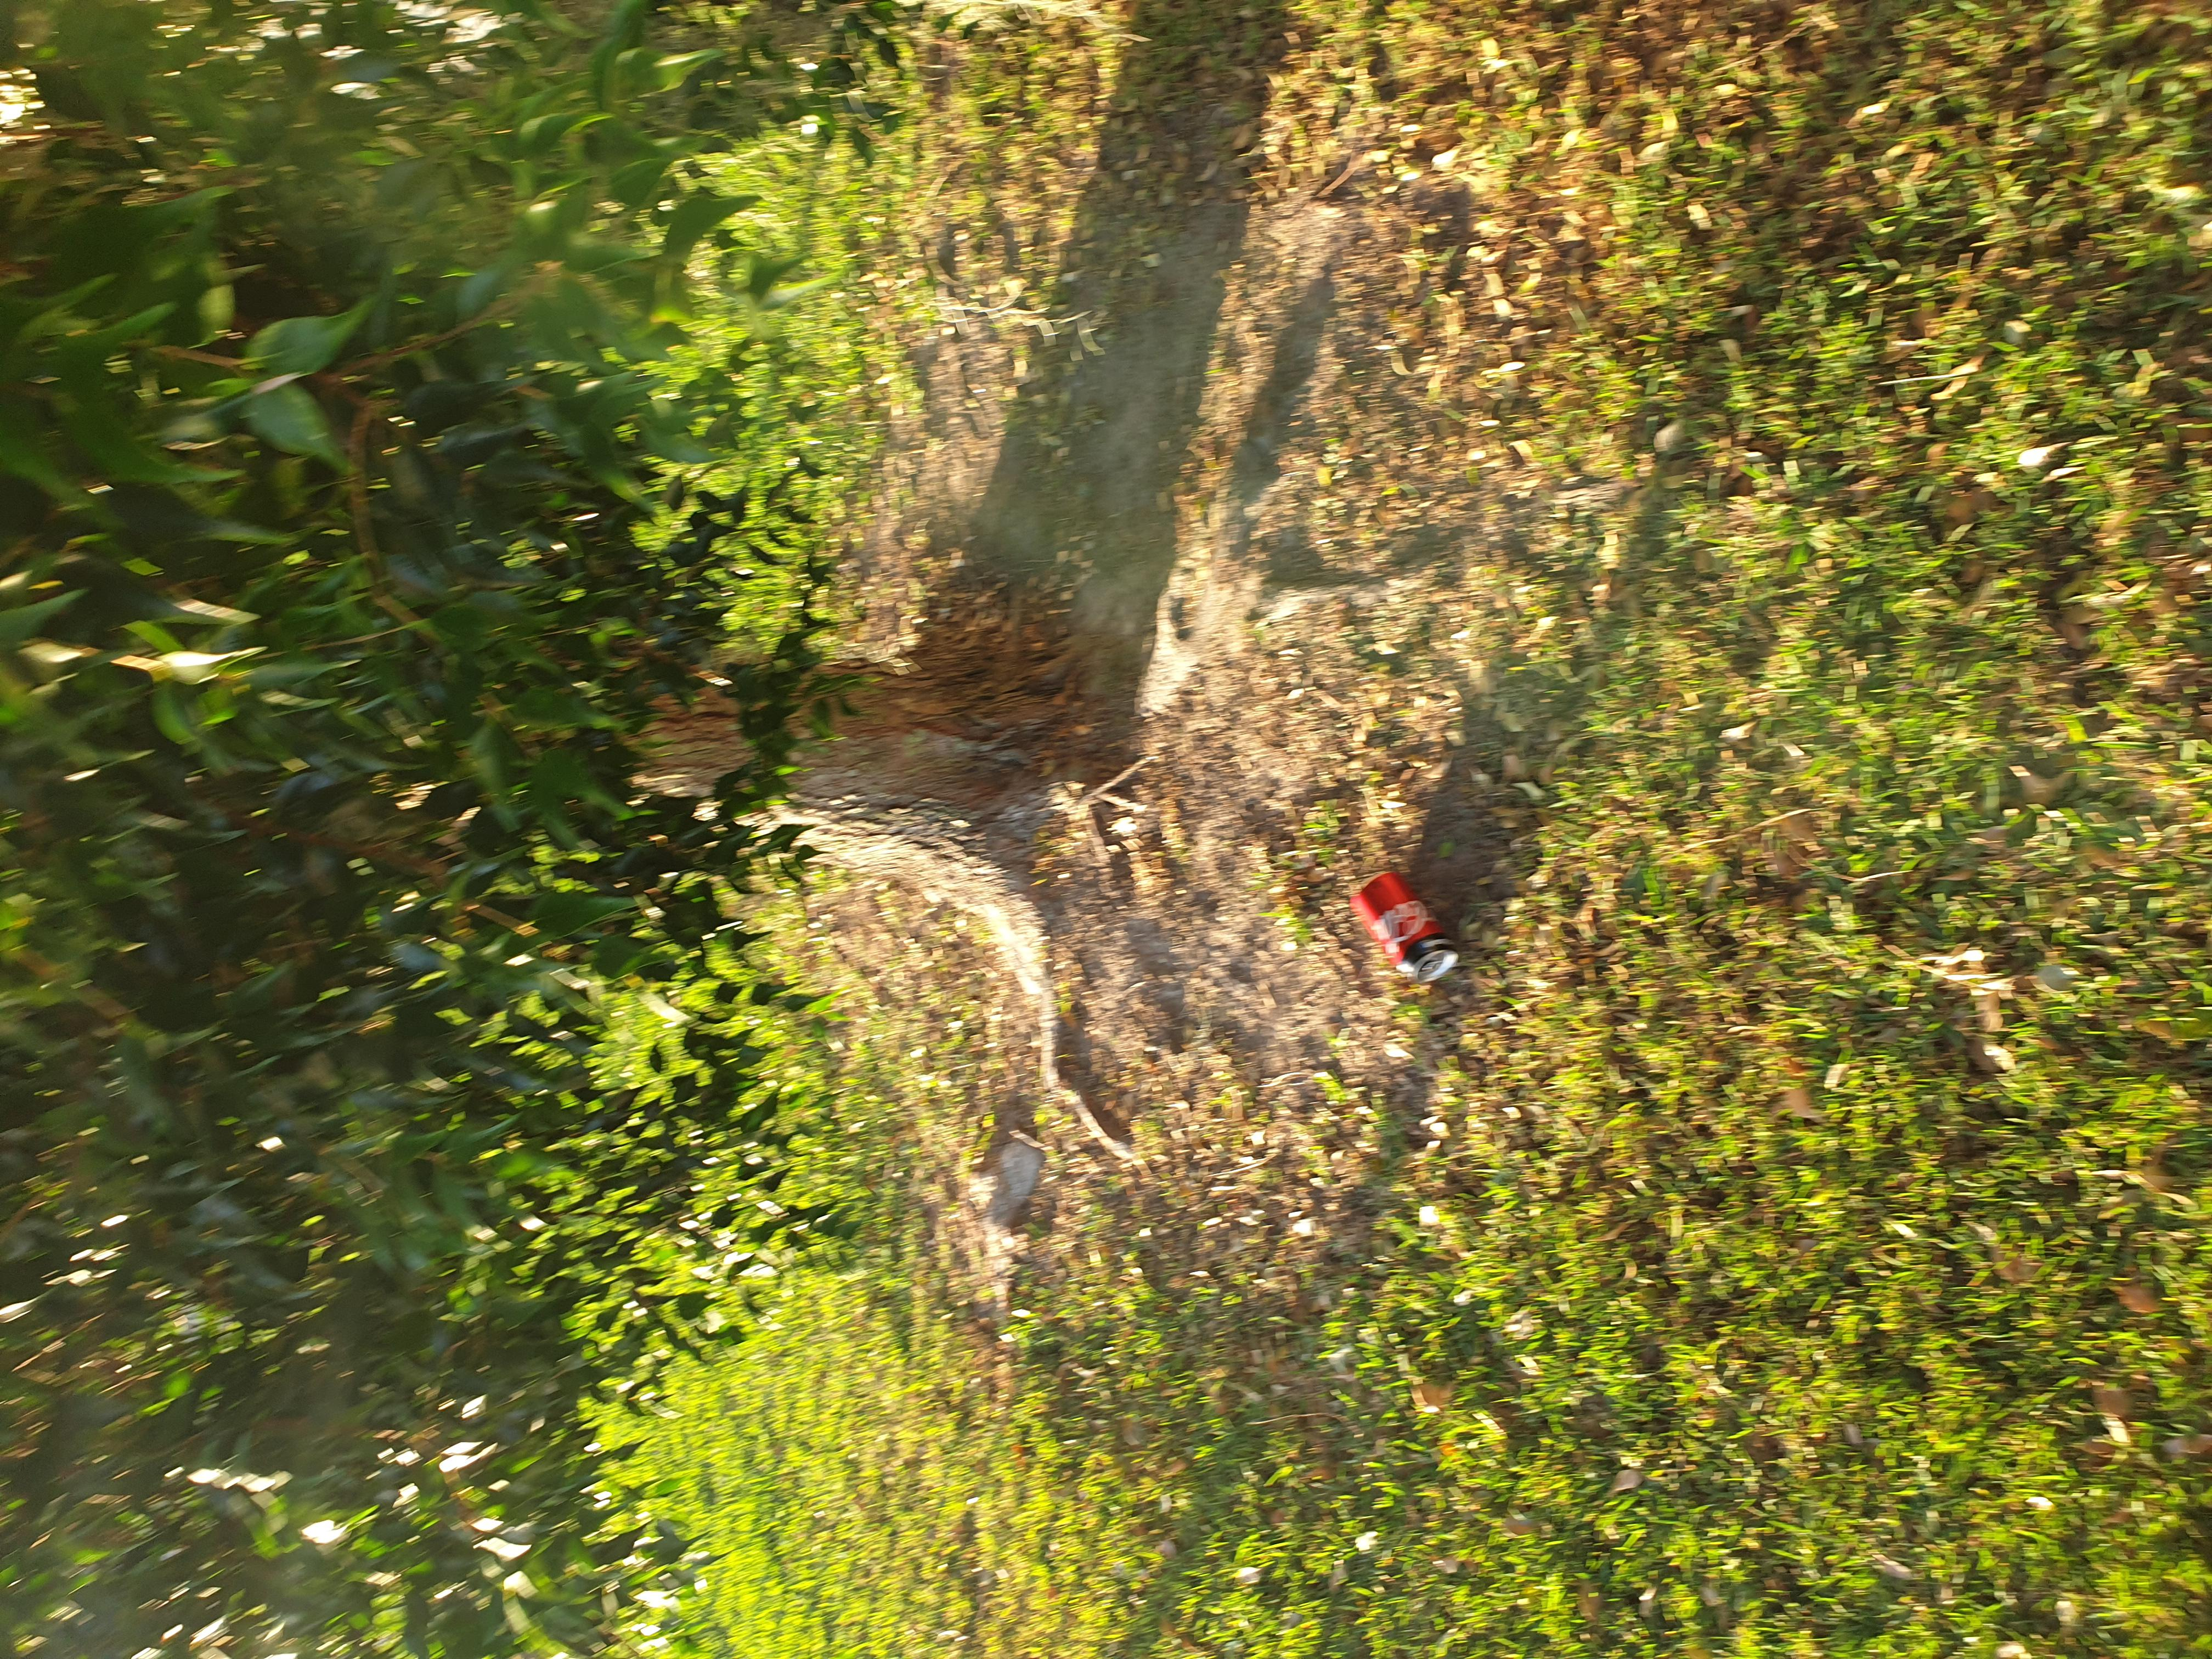Plastic Bottle: (1350, 870, 1458, 985)
